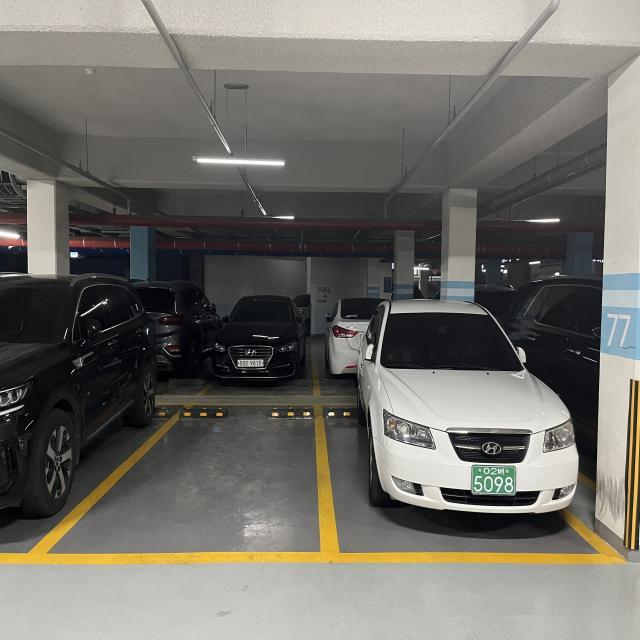empty: (29, 401, 321, 565)
occupied: (350, 282, 596, 570)
